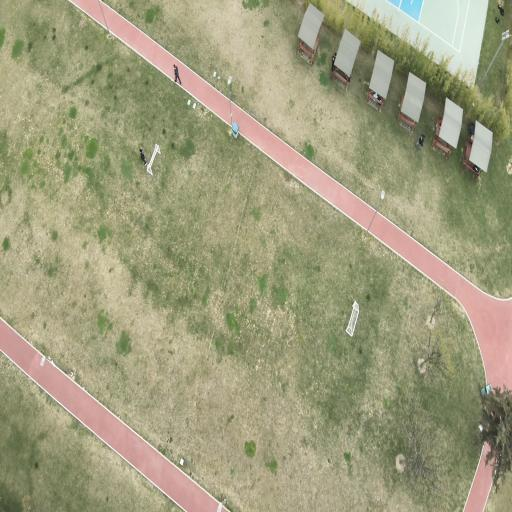person: (416, 134, 425, 150), (174, 64, 181, 84), (140, 149, 146, 166), (467, 123, 475, 135), (436, 119, 442, 132), (332, 53, 336, 72), (373, 92, 382, 100), (498, 4, 504, 16), (474, 165, 479, 174), (495, 18, 499, 23)
